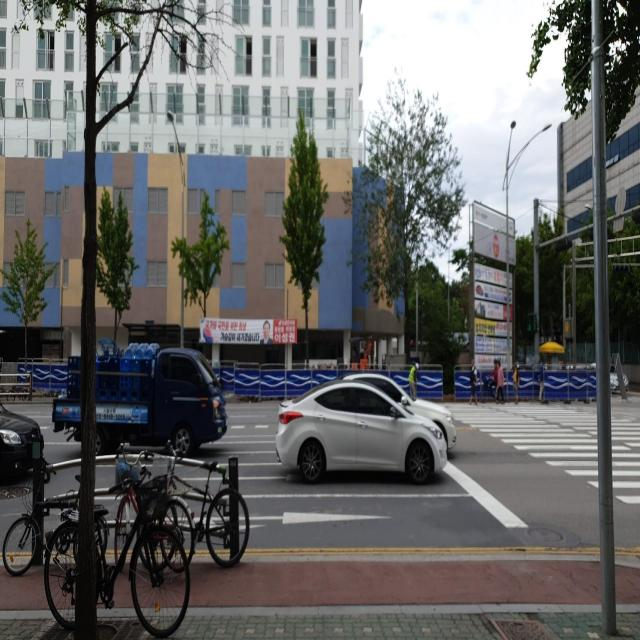횡단보도: (437, 403, 640, 506)
